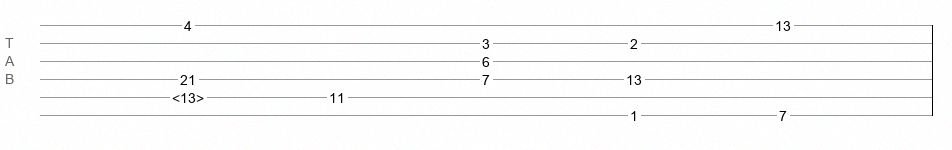1: (630, 108, 638, 118)
11: (329, 90, 345, 100)
13: (626, 72, 642, 82), (775, 18, 791, 28)
2: (630, 36, 638, 46)
21: (180, 72, 196, 82)
3: (482, 36, 490, 46)
4: (184, 18, 192, 28)
6: (482, 54, 490, 64)
7: (482, 72, 490, 82), (779, 108, 787, 118)
harmonic: (172, 90, 204, 100)
